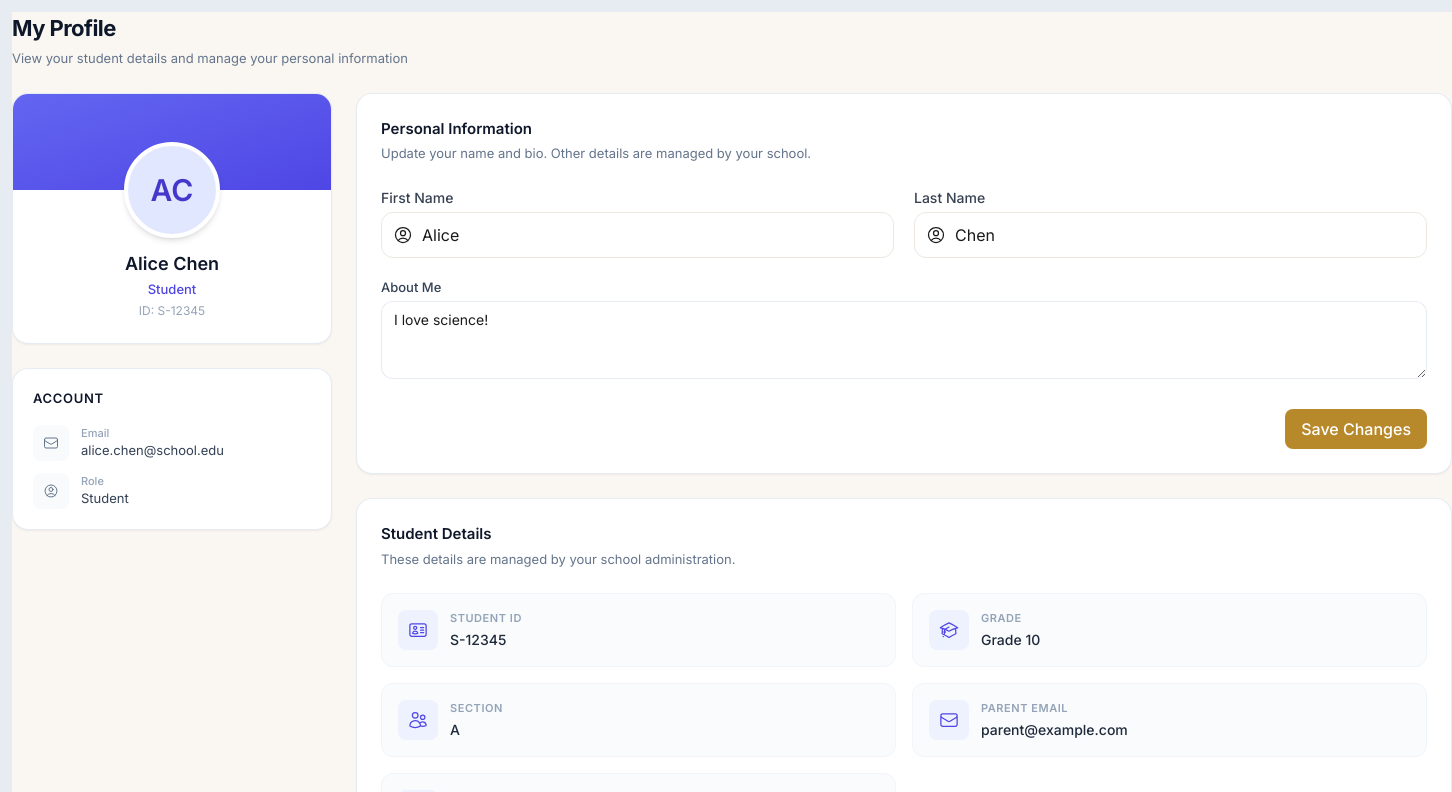
it: ProfilePage › save changes › shows error toast when api.patch rejects
The width and height of the screenshot is (1452, 792).
Click the button "Save Changes" at [1356, 429], box [1285,409,1427,449]
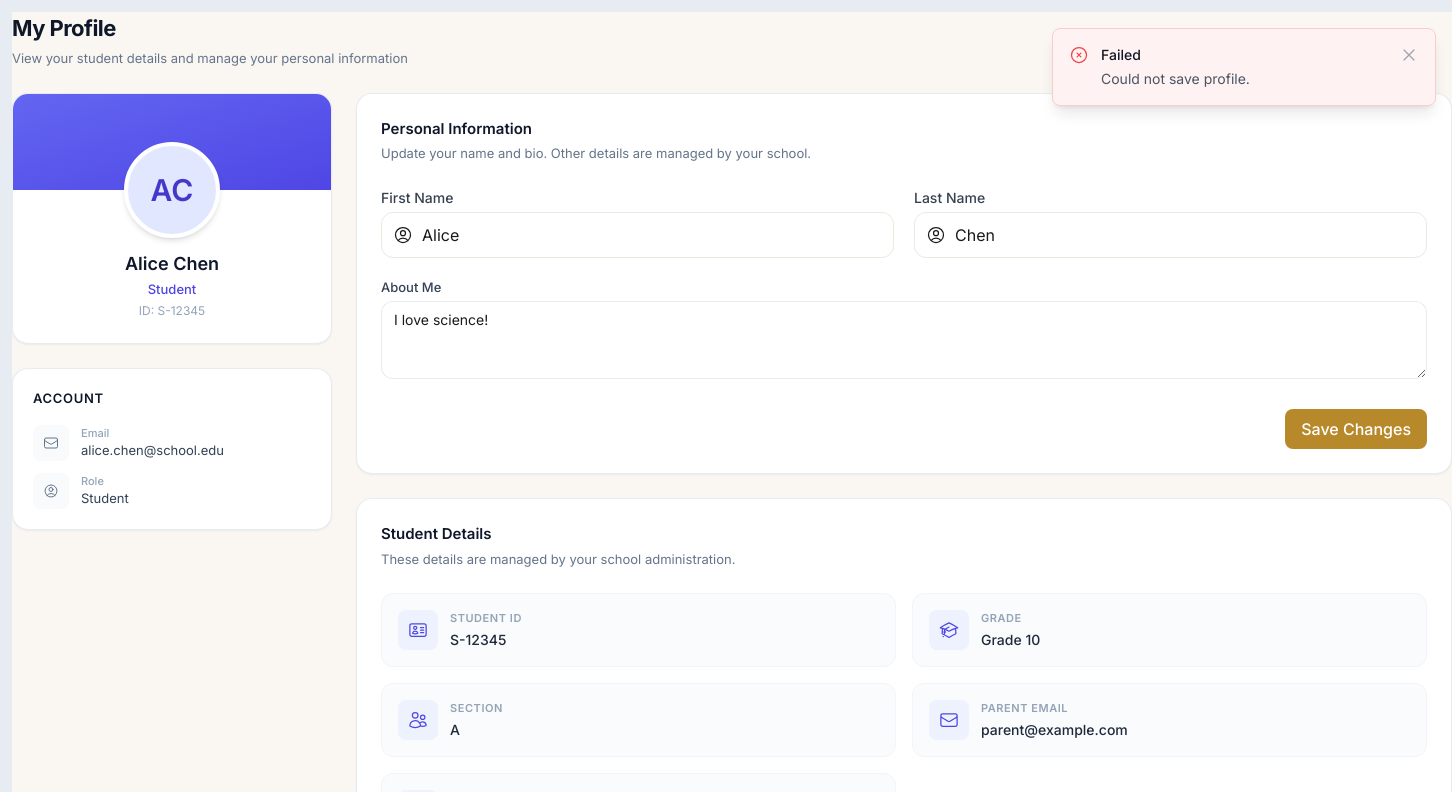
Now the text "Failed" is shown, box [1101,46,1141,63]
